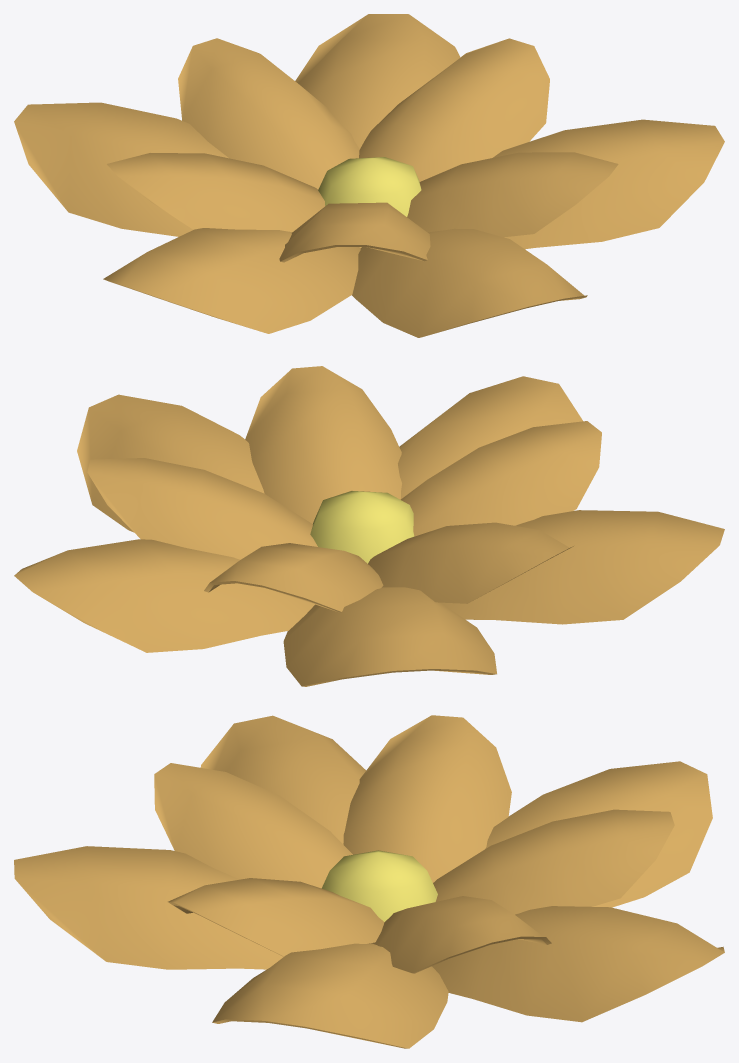
File: Flower02.fbx
3 renders of one model, top to bottom at view 1: azimuth 30°, elevation 25°; view 2: azimuth 150°, elevation 25°; view 3: azimuth 270°, elevation 25°, orthographic. The views are drawn at different scales.
Parts seen in each view (by area): view 1: Flower02_LOD0; view 2: Flower02_LOD0; view 3: Flower02_LOD0.
Part boxes in pixels (<box>): Flower02_LOD0: <box>14,14,724,337</box>; Flower02_LOD0: <box>14,366,724,686</box>; Flower02_LOD0: <box>14,715,724,1048</box>.
Size of what is drawn, in the model's own units: 15.09 by 2.88 by 14.61.
